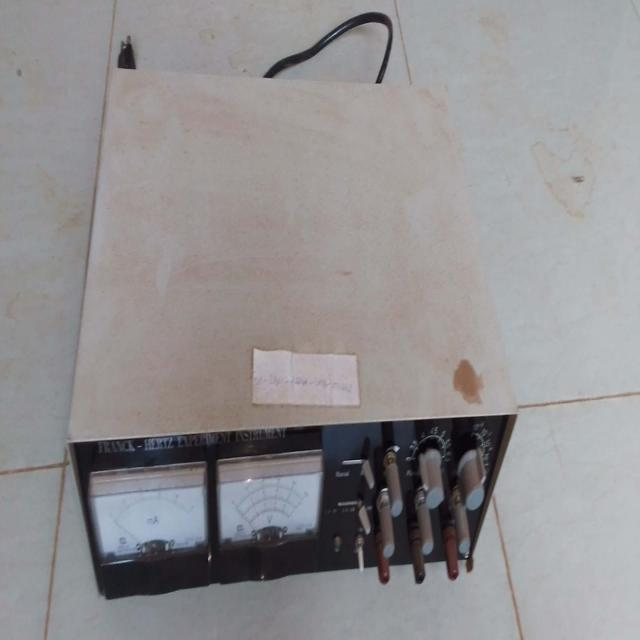Frank-Hertz Experiment Apparatus: (63, 40, 528, 610)
